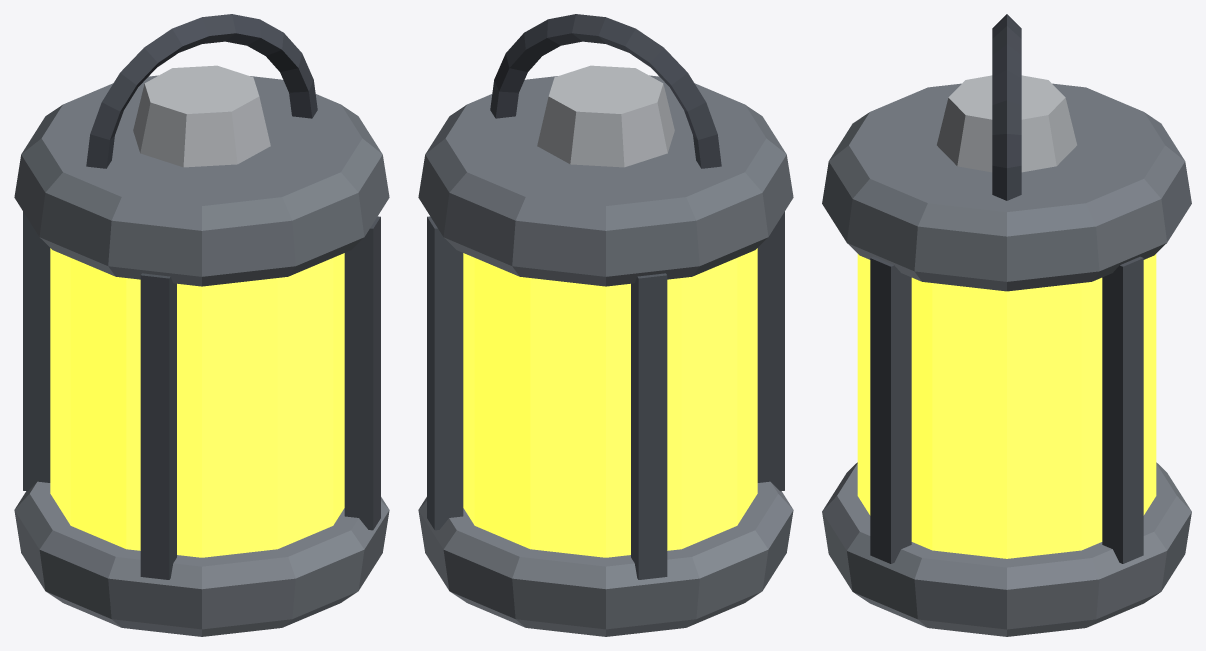
The model's file is power_cell.glb.
3 views of the same model, side by side, from view 1: azimuth 30°, elevation 25°; view 2: azimuth 150°, elevation 25°; view 3: azimuth 270°, elevation 25° (orthographic).
Parts seen in each view (by area): view 1: cell_body; view 2: cell_body; view 3: cell_body.
Boxes of the visible parts, x1,y1,x2,y2 form: cell_body: (14, 14, 389, 636); cell_body: (418, 14, 793, 636); cell_body: (822, 14, 1191, 636).
Size of the model in its own units: 0.6314 by 1.03 by 0.6314.
